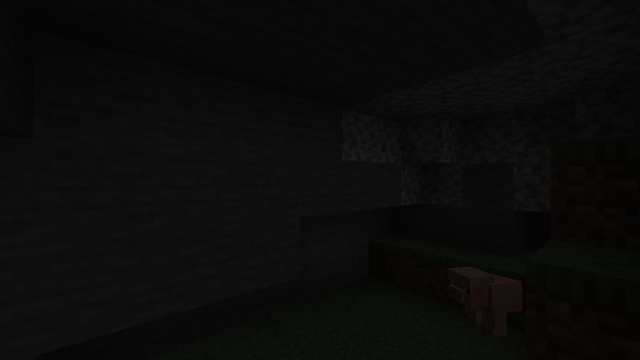cochons: (461, 267, 521, 345)
